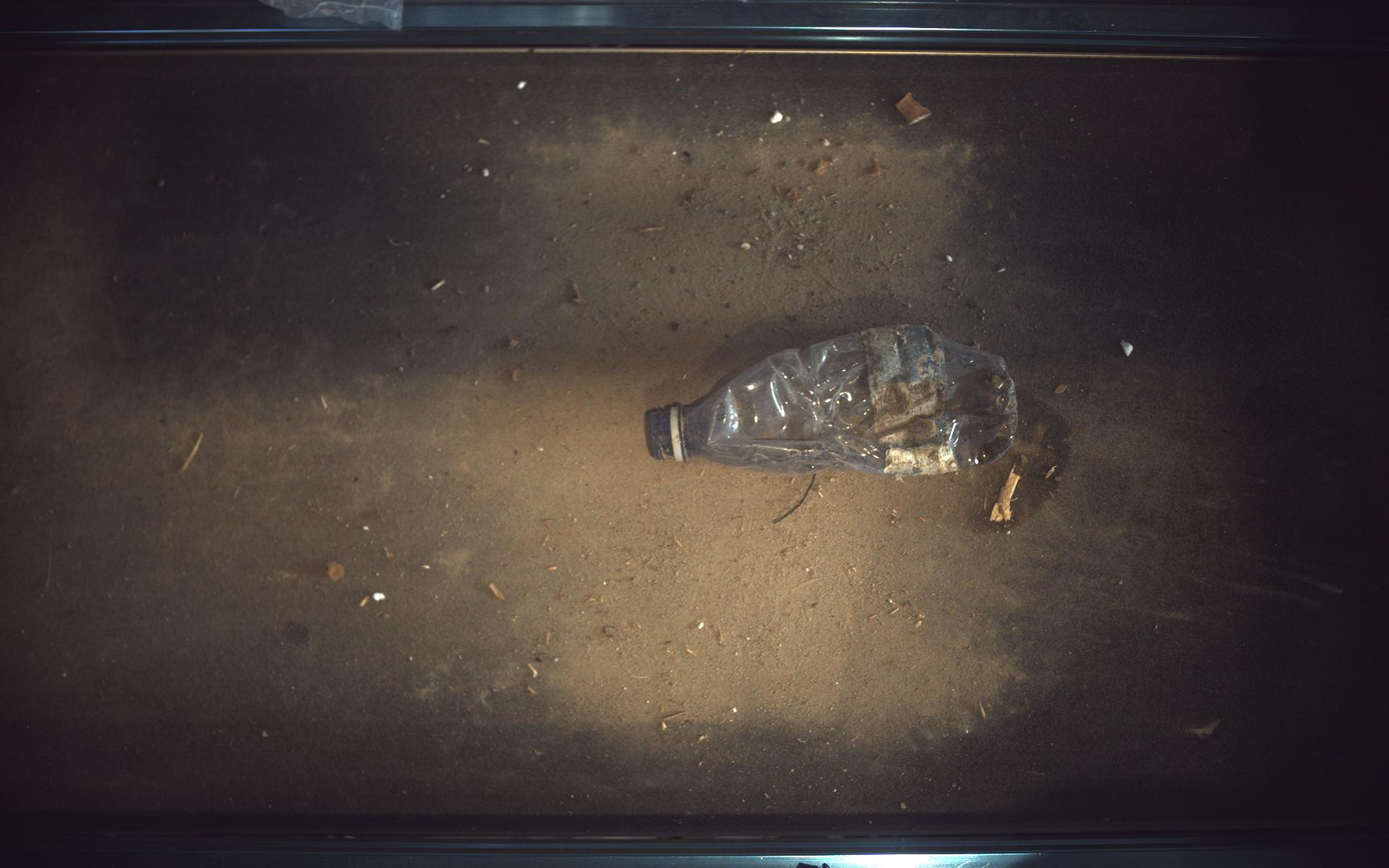general_w: (646, 325, 1020, 475)
